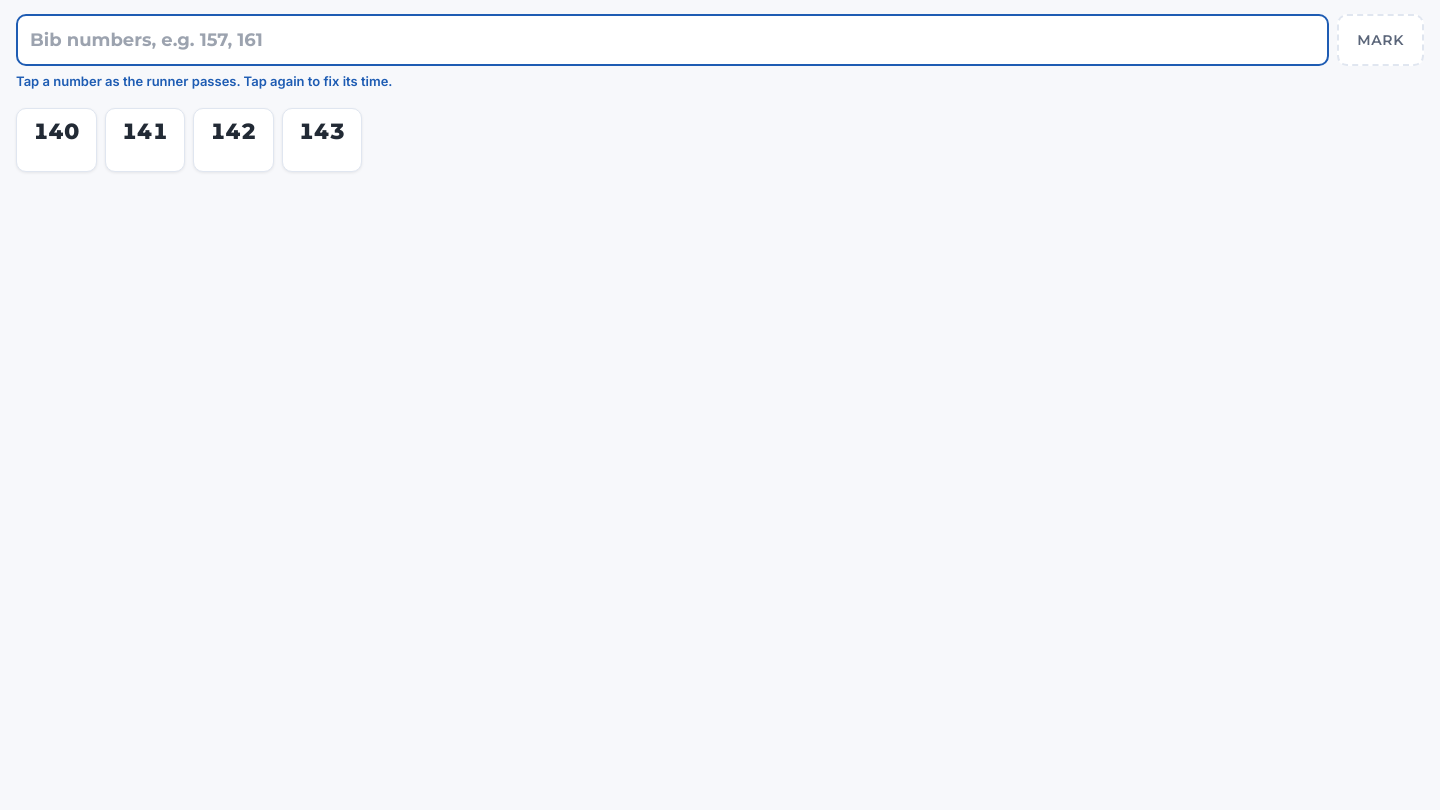
Test: Mark off (RunnerGrid) › quick entry marks several numbers, skips unknown and already-marked ones
Click the button "140": (56, 140) [16,108,96,172]
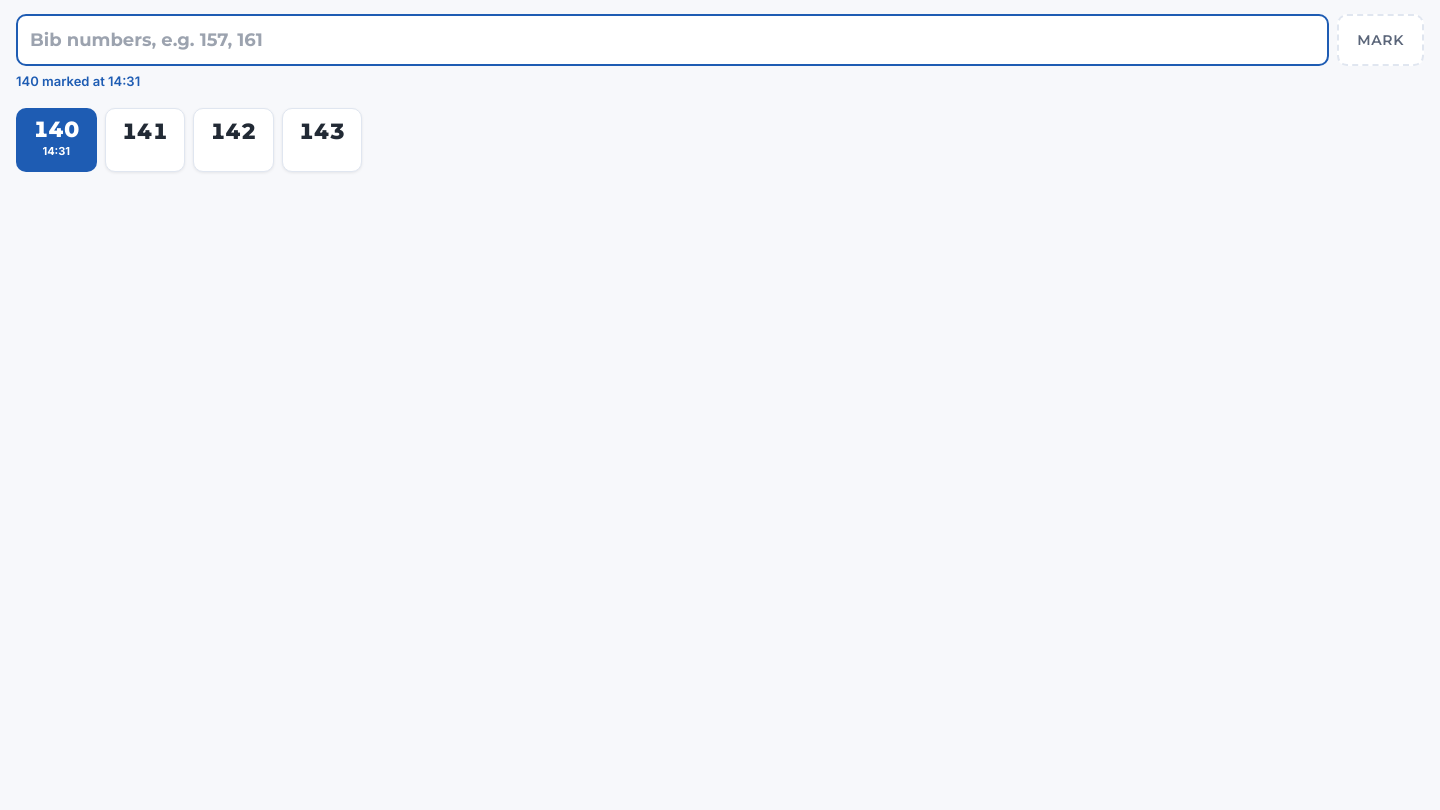
In the field labelled "Bib numbers": (673, 40) [16,14,1329,66], type "141, 142 140 999"
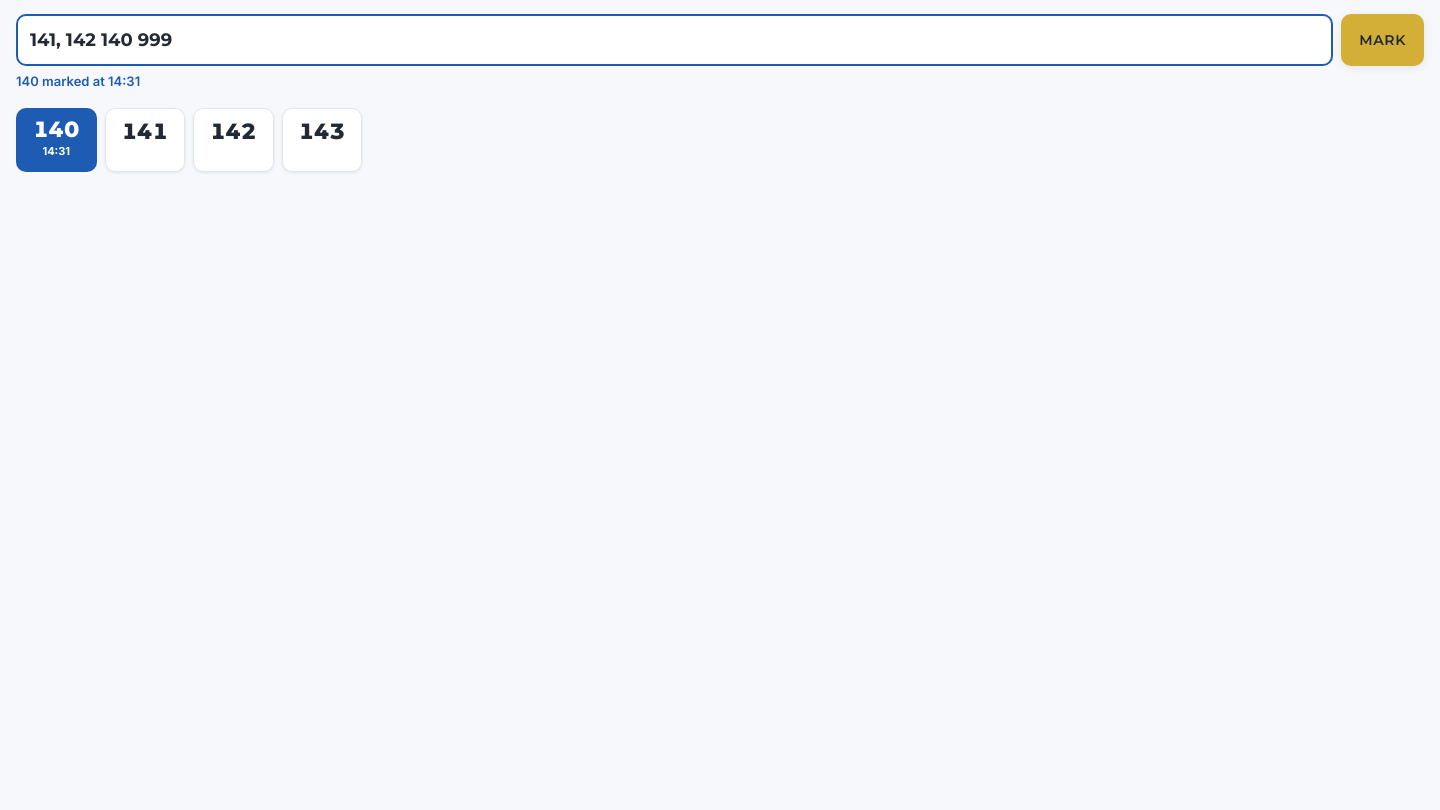
Submit the form named "Bib numbers", box [16,14,1424,66]
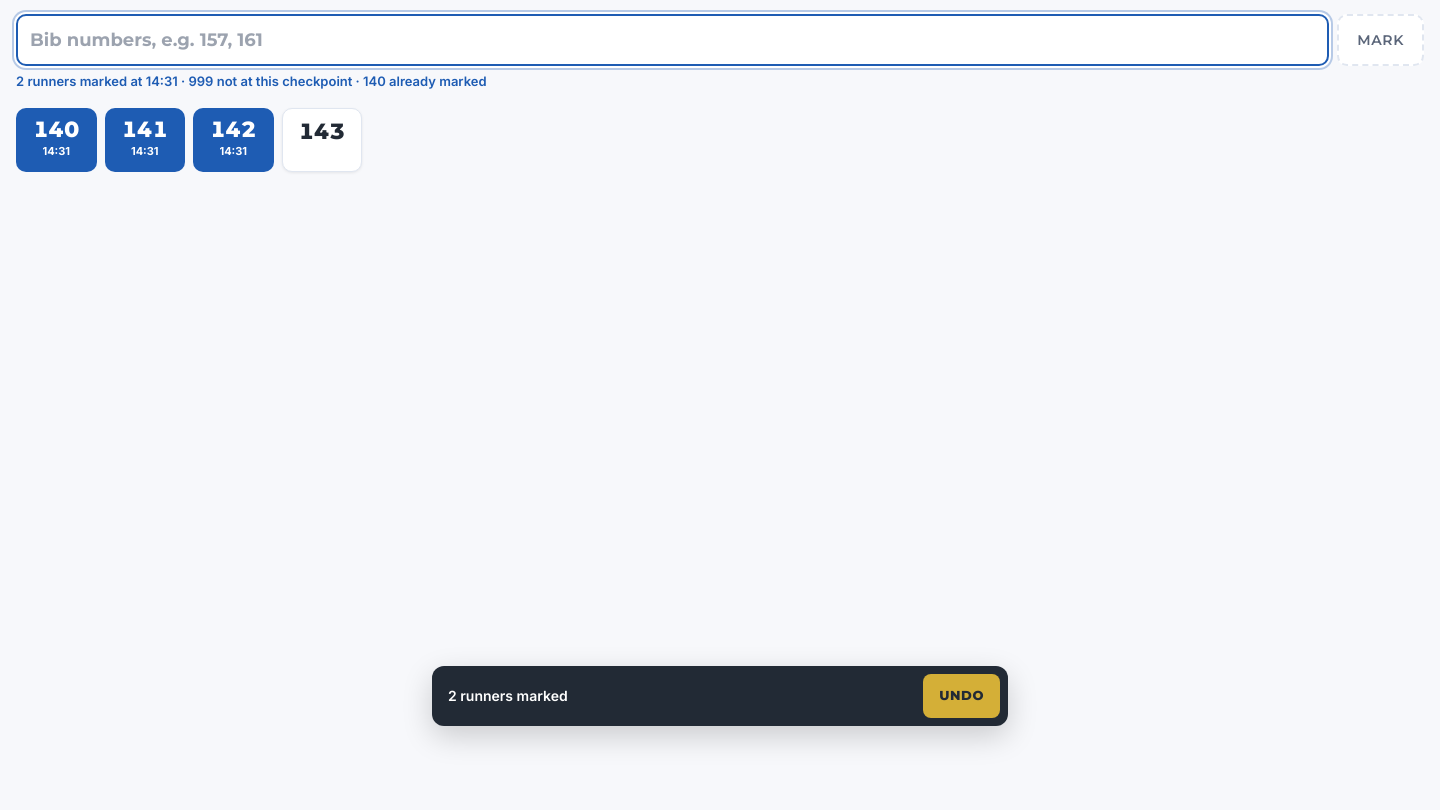
Result: the text with test id "markoff-status" reads "2 runners marked at 14:31 · 999 not at this checkpoint · 140 already marked" at [16,73,487,89]
